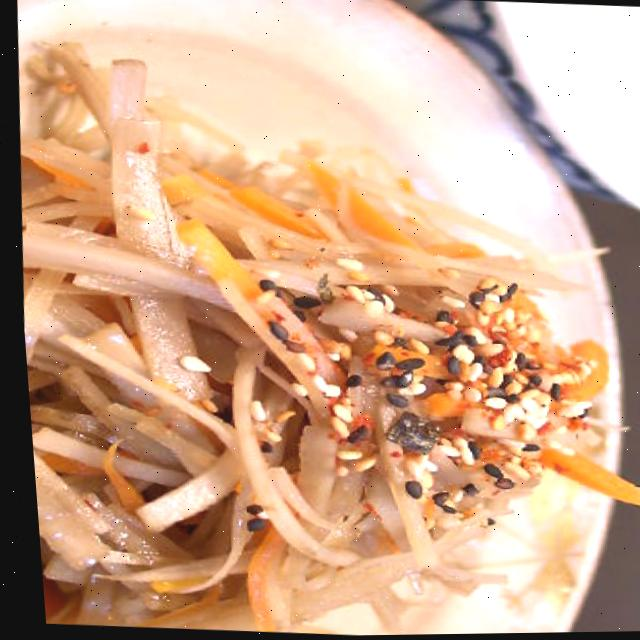蔬菜料理: (1, 12, 640, 640)
